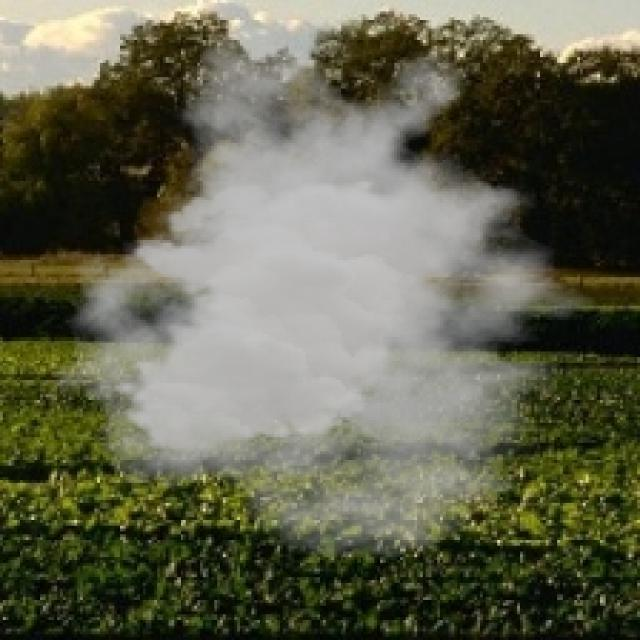Smoke: (51, 28, 620, 560)
